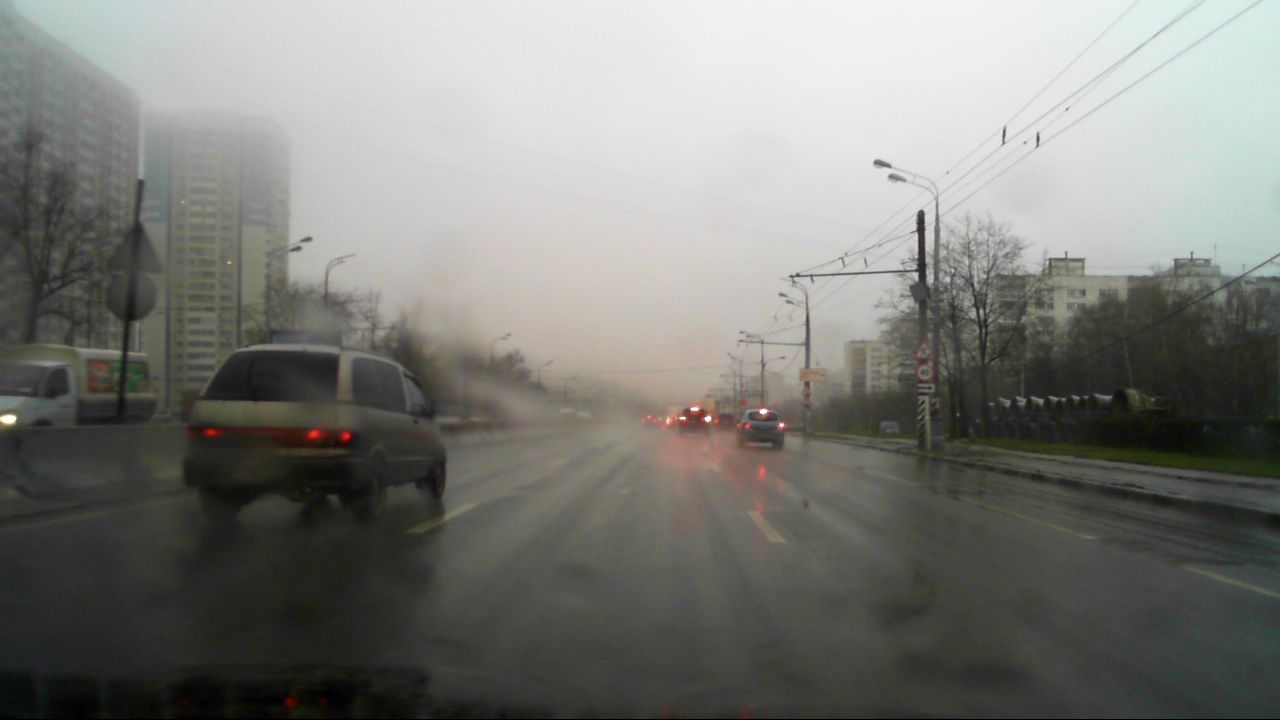speed_warning_40: (916, 364, 932, 381)
